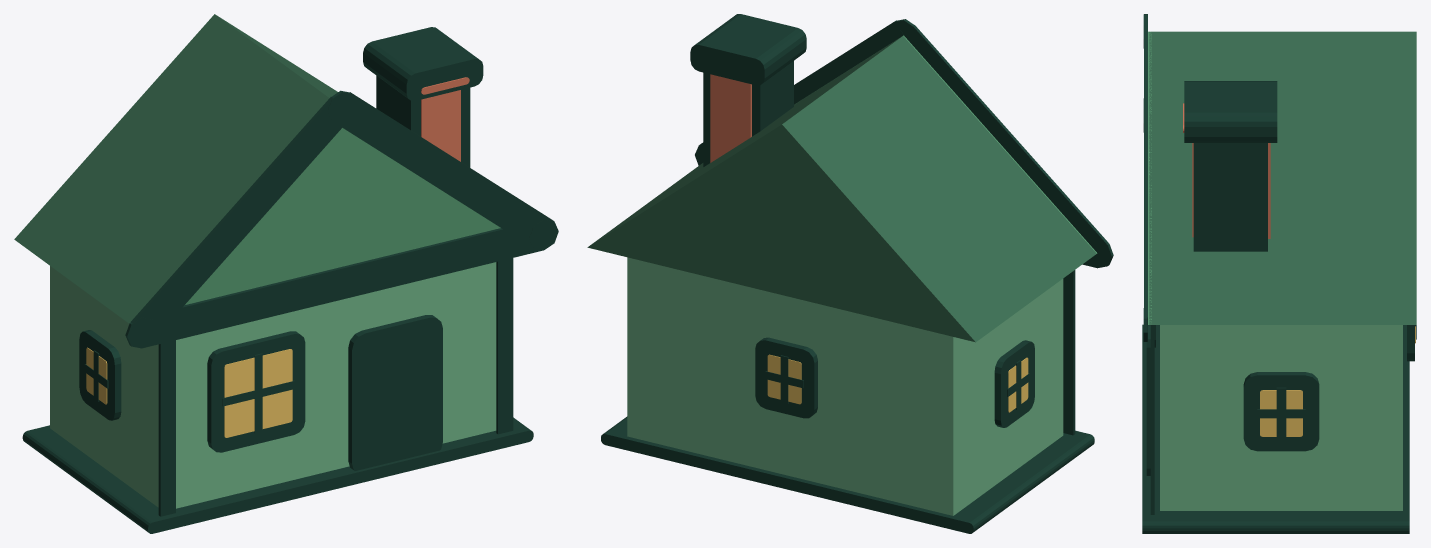
File: variant-01.glb
The picture shows the model from 3 angles, left to right: view 1: azimuth 30°, elevation 25°; view 2: azimuth 150°, elevation 25°; view 3: azimuth 270°, elevation 25°; orthographic projection. The views are drawn at different scales.
Visible parts, largest first — view 1: Cottage; view 2: Cottage; view 3: Cottage.
Part boxes in pixels (x1,y1,x2,y2): Cottage: (14, 14, 558, 533); Cottage: (587, 14, 1113, 533); Cottage: (1142, 14, 1416, 533).
Size of the model in its own units: 1.13 by 0.9843 by 0.58.
